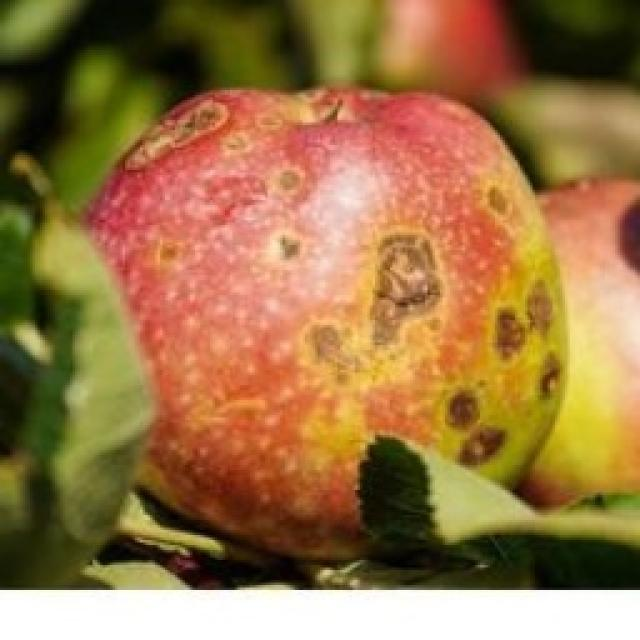defective: (78, 80, 570, 565)
